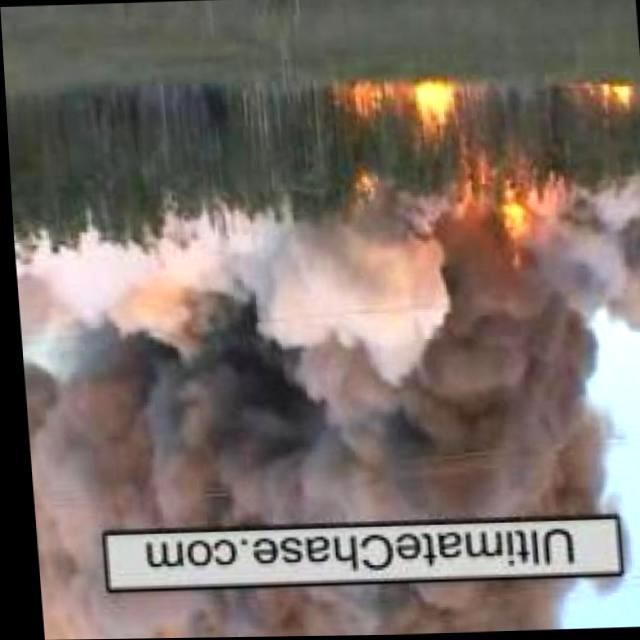fire: (490, 193, 534, 263), (408, 81, 452, 142), (587, 82, 633, 106), (342, 80, 371, 112)
